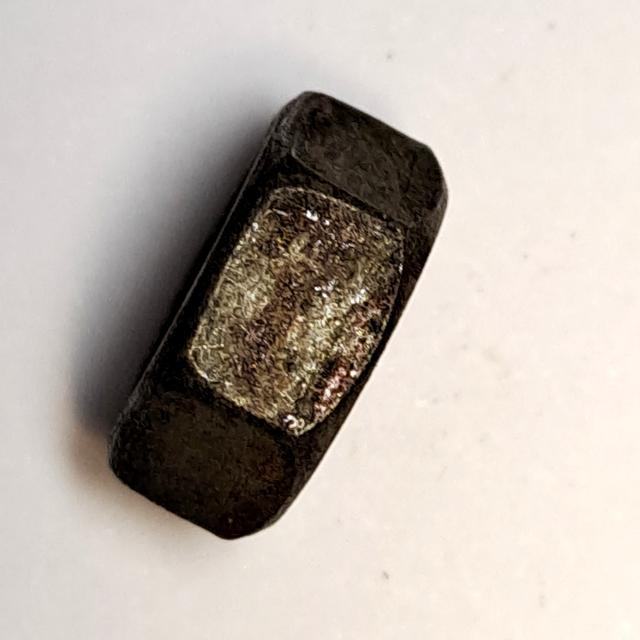Side_Rust: (98, 79, 472, 562)
